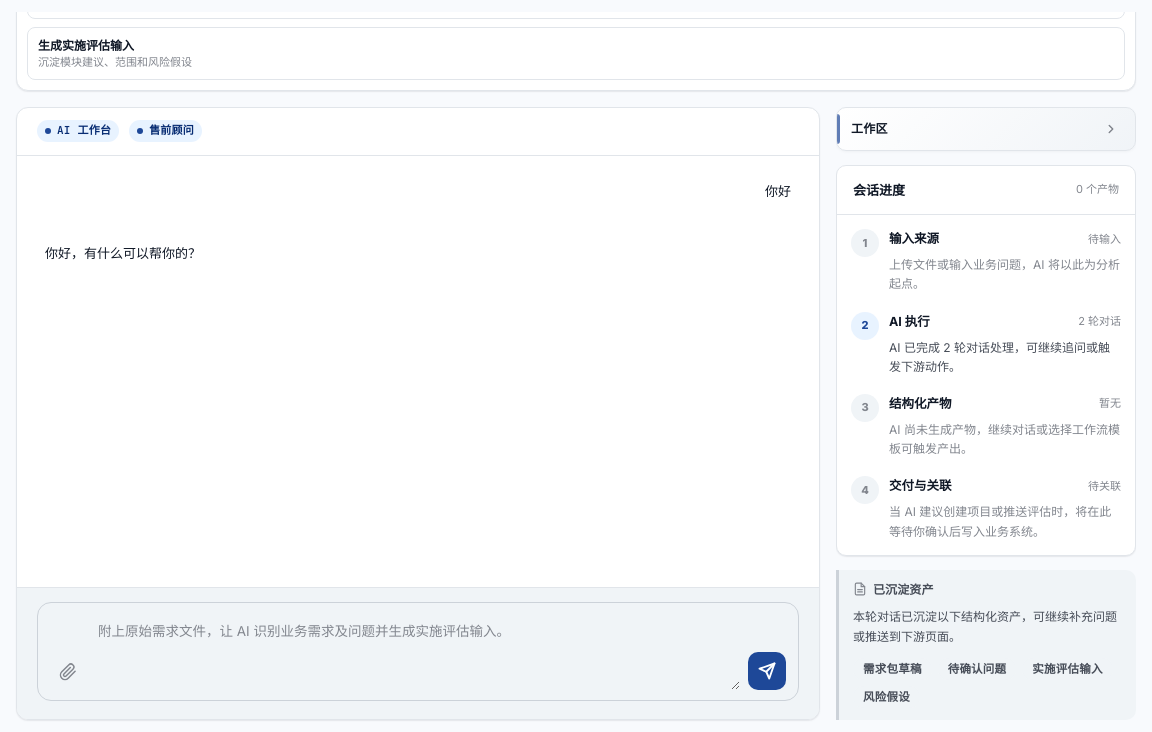
Scenario: run-submit: Step 3 前端发送路径 Run 化 › run-submit: 409 时呈现文案且不回退旧同步路径
(page scrolled)
Expected: the text "你好，有什么可以帮你的？" is shown, x1=45 y1=242 x2=201 y2=264
Type "我的问题" into the text box at (417,651), box x1=94 y1=613 x2=740 y2=690
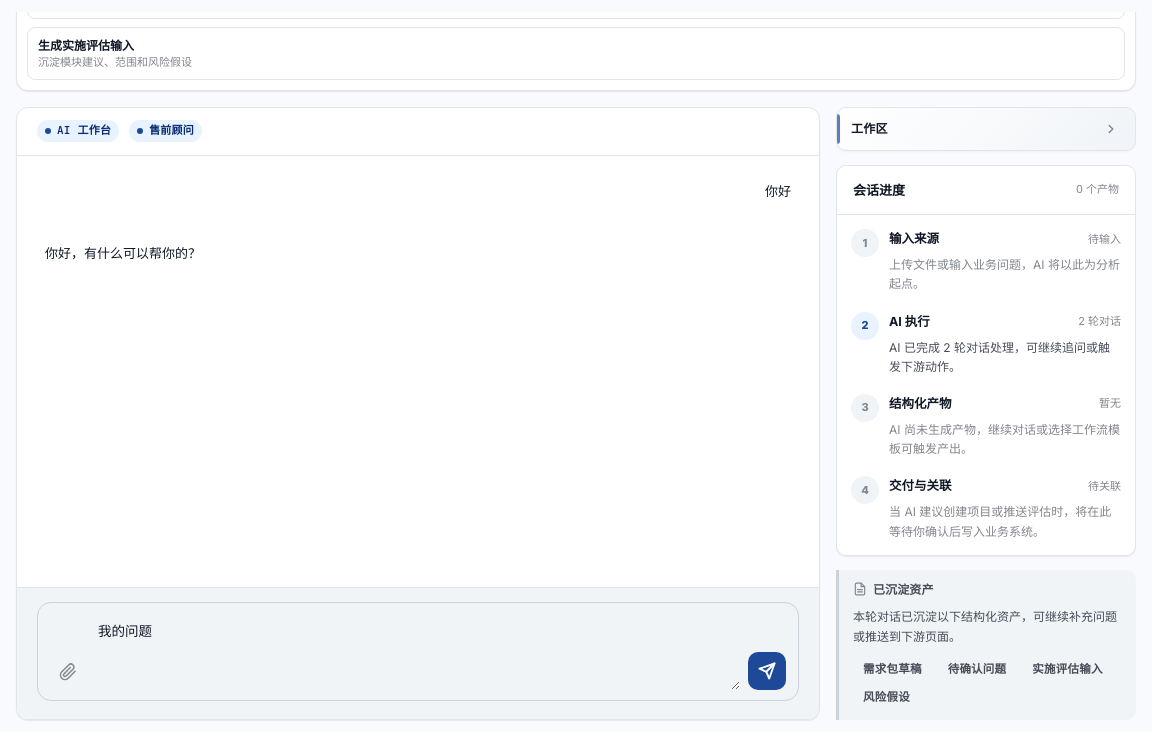
Click the button named "发送消息" at (767,671), box x1=748 y1=652 x2=786 y2=690
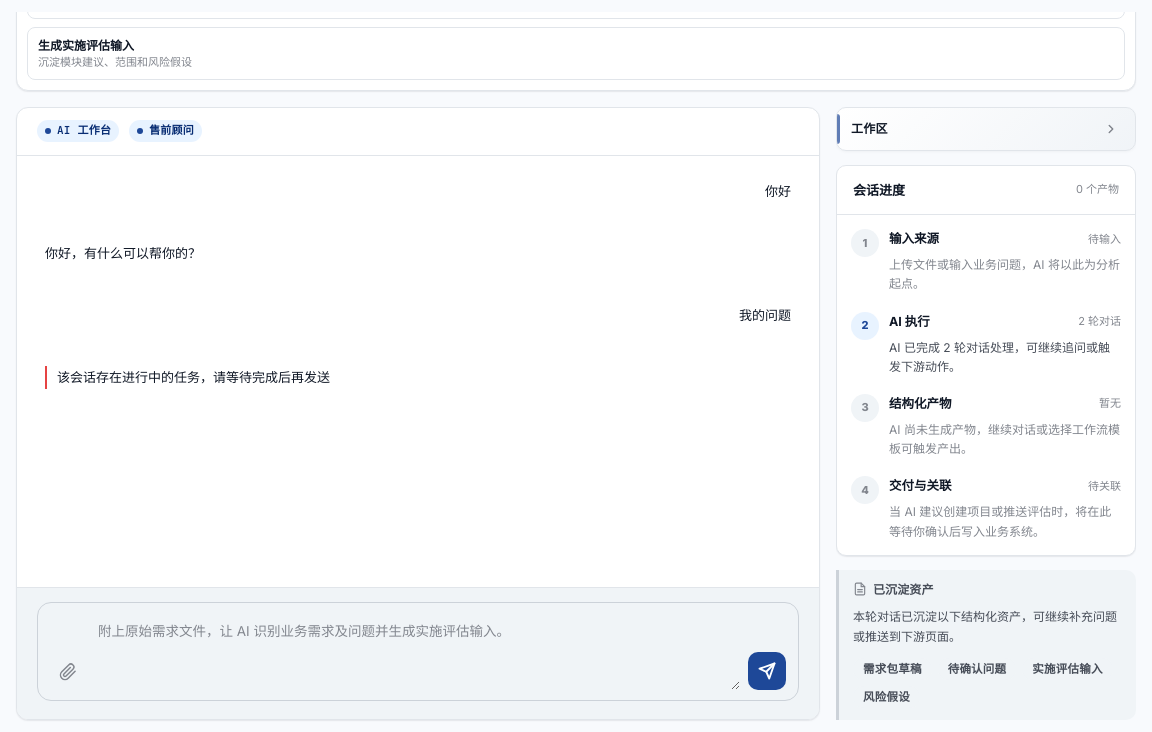
Result: the text "该会话存在进行中的任务，请等待完成后再发送" is shown at x1=57 y1=366 x2=330 y2=388
